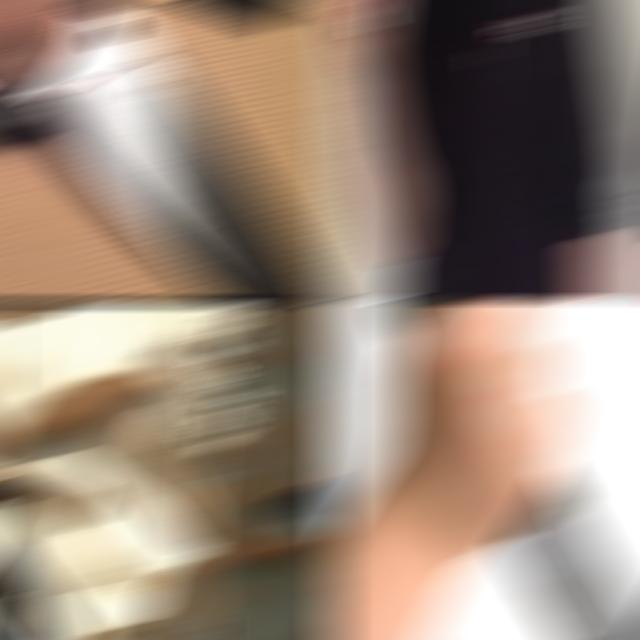Knife: (0, 2, 332, 298), (498, 475, 640, 638)
Knife_Handle: (322, 2, 397, 76)
